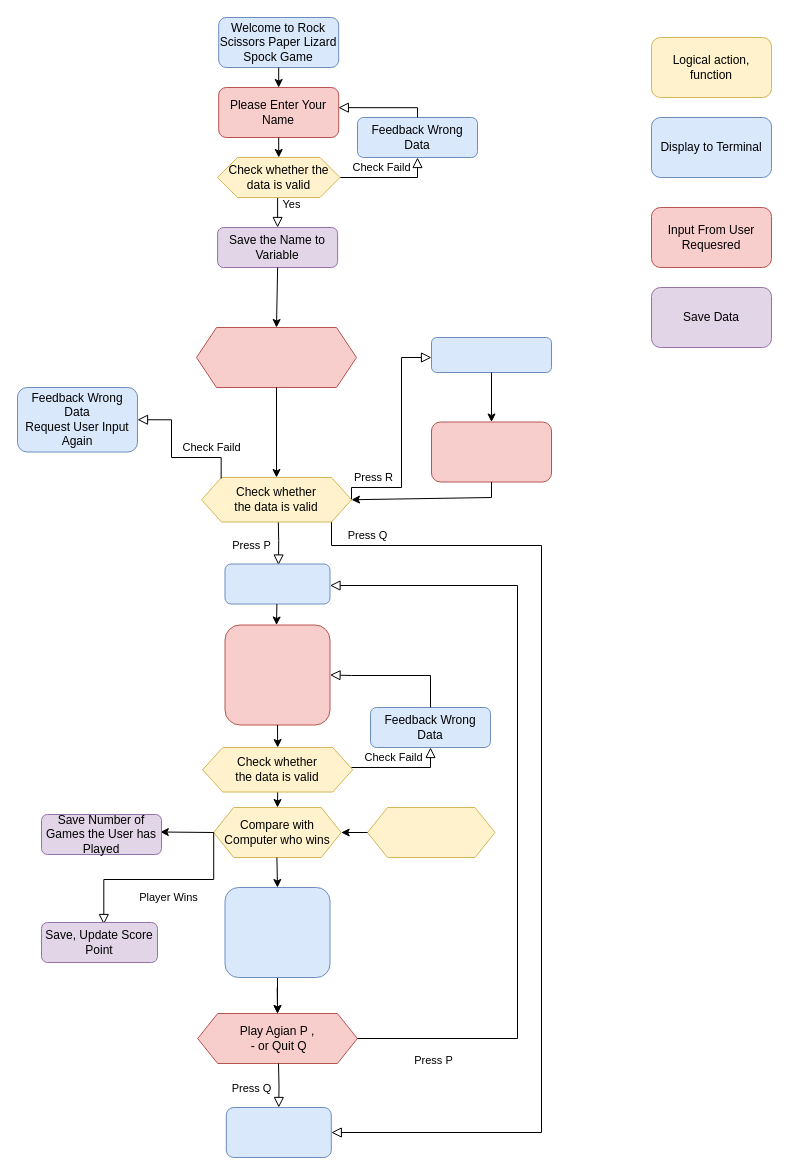
Image size: 789x1175. Some labels were removed from this diagram. Here are the shapes that lost their labels. From the top down, the centre of each, then its label:
pixel 276 357: Press P to Play R to see the Rules Q to Quit
pixel 491 354: Load, Print Rules
pixel 491 451: , Press P Start the Game, q to quit.
pixel 277 583: Please select your item
pixel 277 674: Press: 1. for stone 2. for scissors 3. for paper 4. for lizard 5. for Spock
pixel 430 832: Random selection of the Computer
pixel 277 932: Show the computer selection and who won: Computer Choose:
pixel 278 1132: Thanks for Playing Have a good Day
